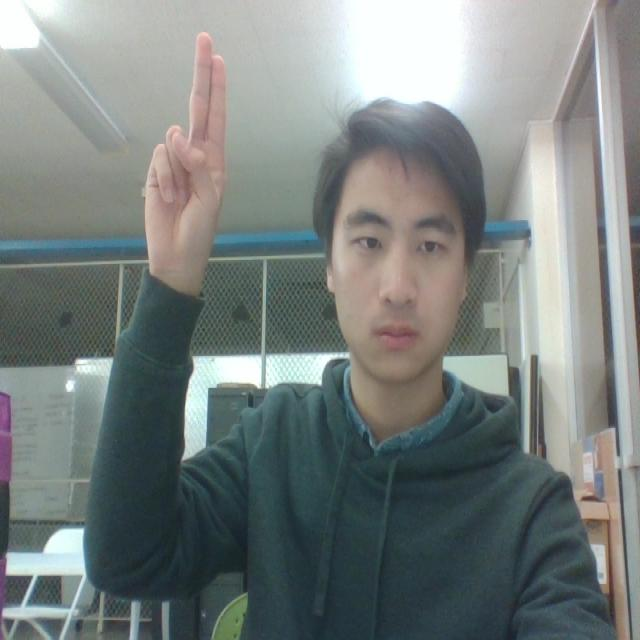U: (130, 15, 280, 328)
